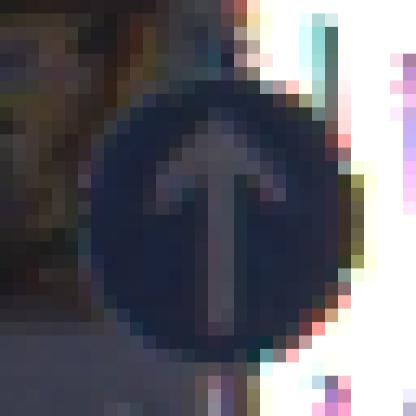AheadOnly: (66, 68, 352, 350)
